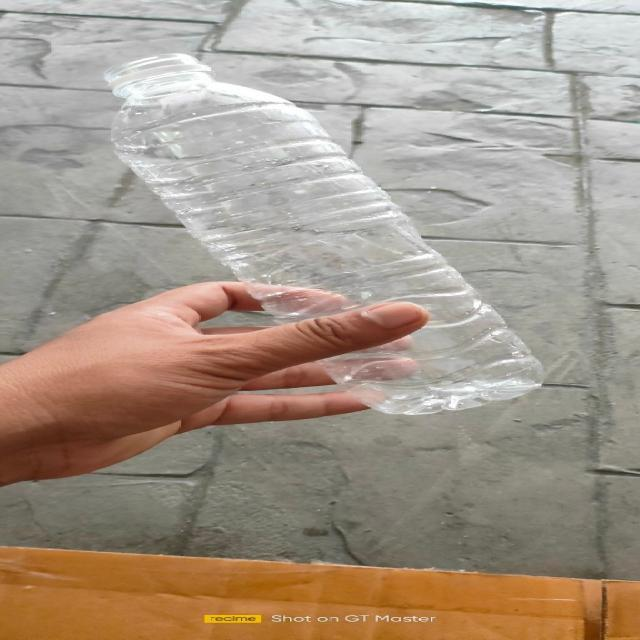bottle: (108, 54, 548, 414)
